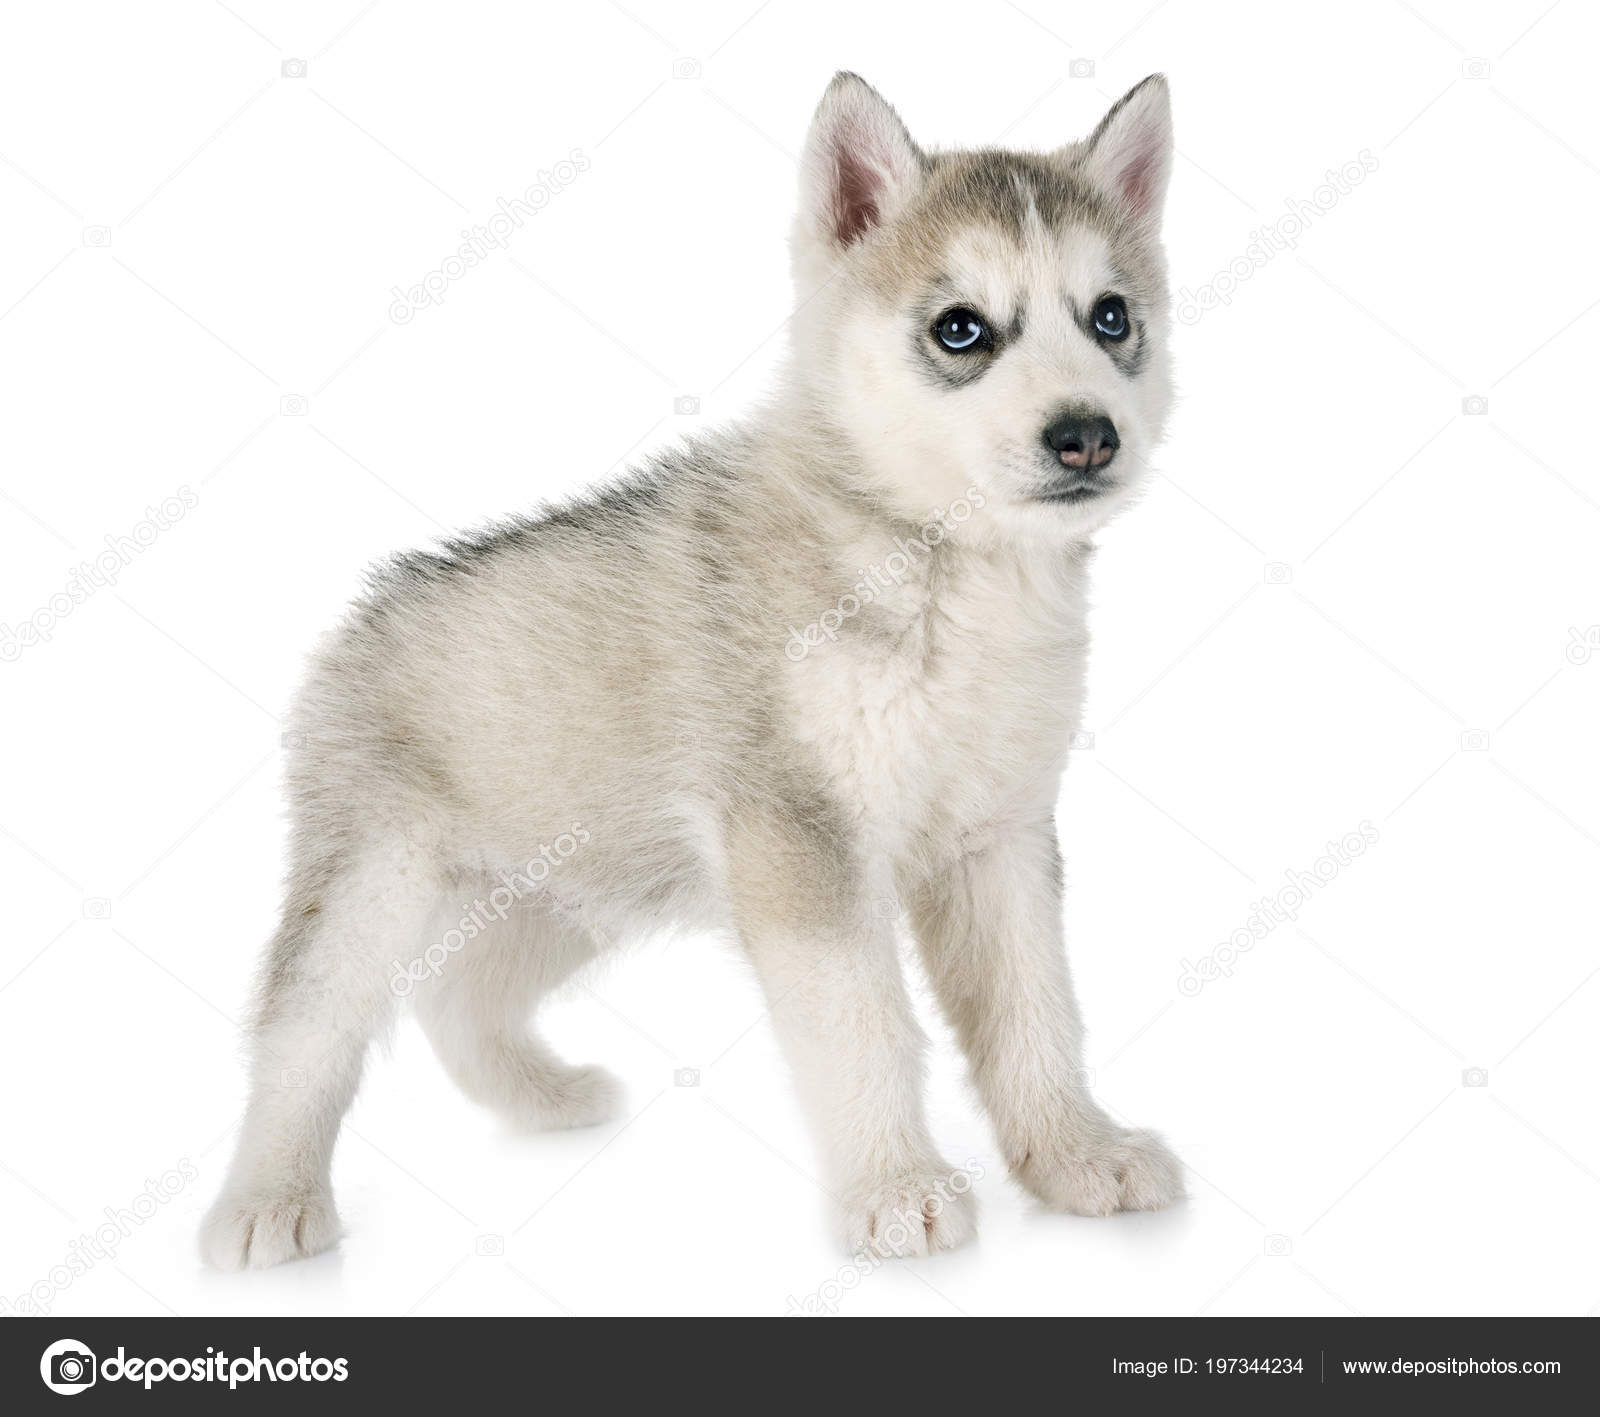husky: (176, 31, 1246, 1293)
